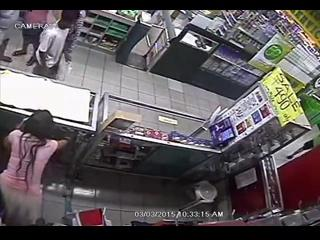Normal: (0, 109, 71, 226), (30, 11, 80, 80)
